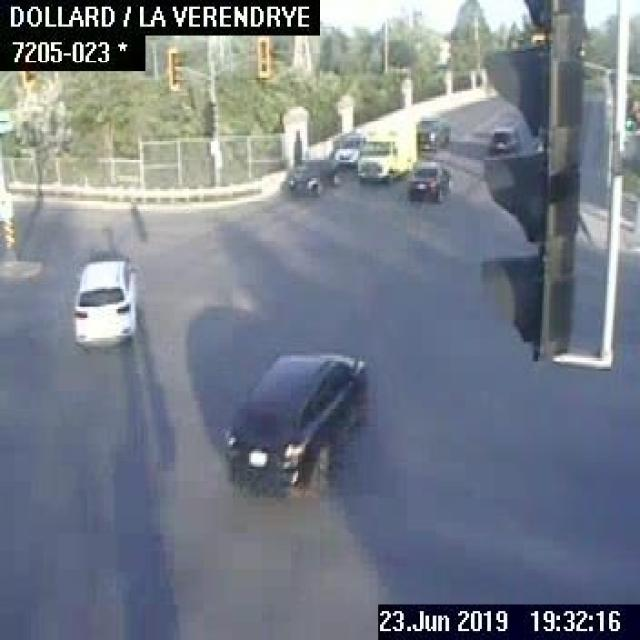vehicle: (226, 349, 369, 500), (71, 253, 136, 347), (354, 130, 415, 176), (280, 158, 337, 202), (407, 160, 452, 201), (412, 111, 450, 154), (485, 122, 520, 156), (331, 127, 363, 162)
